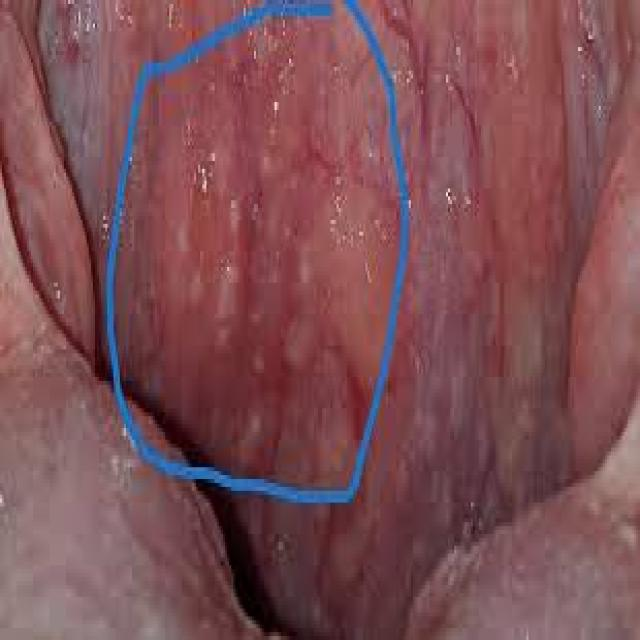processing_area: (3, 0, 638, 636)
ulcer-detection: (118, 18, 370, 465)
